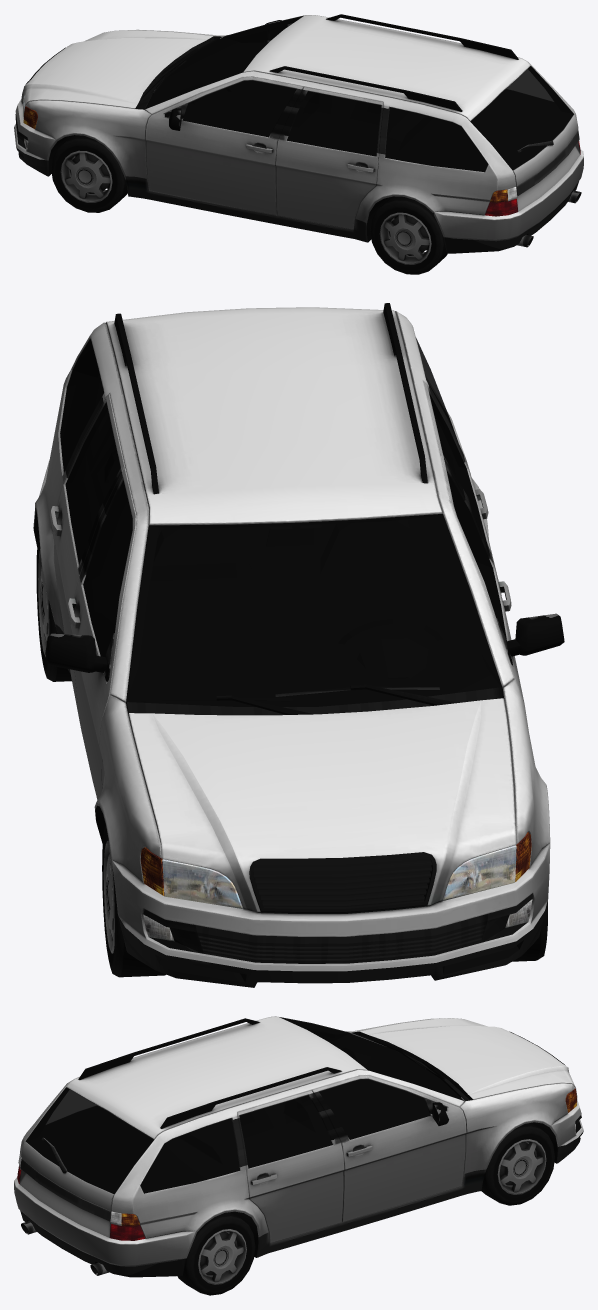
File: rural.glb
3 renders of one model, top to bottom at view 1: azimuth 30°, elevation 25°; view 2: azimuth 150°, elevation 25°; view 3: azimuth 270°, elevation 25°, orthographic. The views are drawn at different scales.
Visible parts, largest first — view 1: Wagon Body, Wheel_A001, Wheel_A; view 2: Wagon Body, Wheel_A002, Wheel_A003; view 3: Wagon Body, Wheel_A003, Wheel_A002.
Part boxes in pixels (x1,y1,x2,y2): Wagon Body: (14,14,583,253); Wheel_A001: (370,196,447,274); Wheel_A: (51,135,127,212); Wagon Body: (33,303,564,987); Wheel_A002: (102,824,165,977); Wheel_A003: (36,534,71,681); Wagon Body: (14,1016,583,1277); Wheel_A003: (177,1212,255,1295); Wheel_A002: (481,1123,554,1205).
Size of the model in its own units: 3.43 by 1.38 by 4.09.
4 materials, 3 textured.
